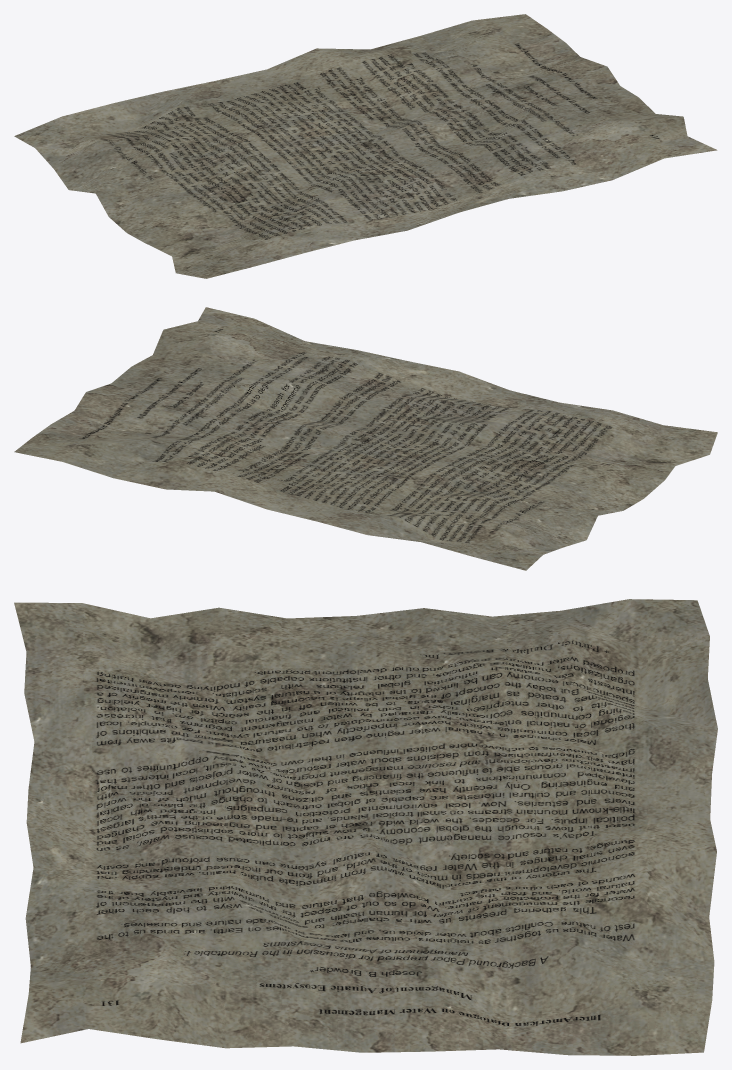
Rendered from TrashPaper_02.FBX.
3 views of the same model, one above another, from view 1: azimuth 30°, elevation 25°; view 2: azimuth 150°, elevation 25°; view 3: azimuth 270°, elevation 25° (orthographic). The views are drawn at different scales.
Visible parts, largest first — view 1: TrashPaper02; view 2: TrashPaper02; view 3: TrashPaper02.
Part boxes in pixels (x1,y1,x2,y2): TrashPaper02: [14, 14, 717, 278]; TrashPaper02: [14, 307, 717, 570]; TrashPaper02: [14, 599, 717, 1055].
Bounding box in the file's own units: 81.24 × 3.23 × 52.71.
